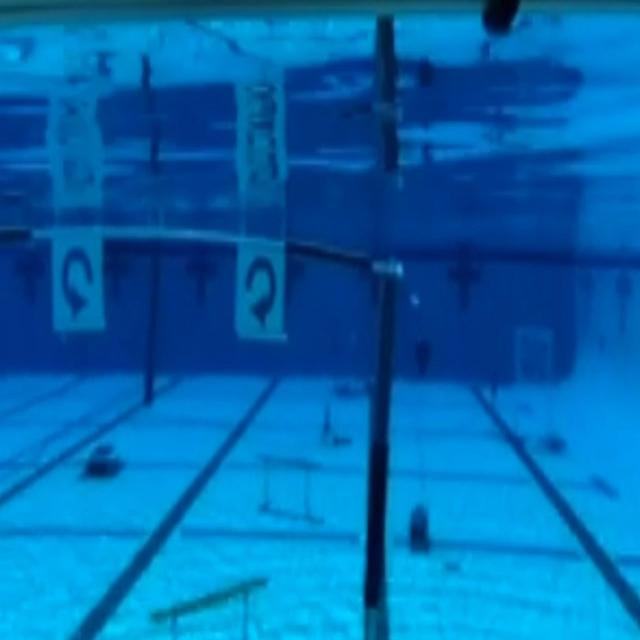Gate: (0, 219, 402, 614)
